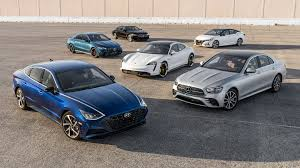car: (9, 59, 149, 142), (172, 48, 285, 115), (119, 39, 195, 77), (64, 32, 124, 60), (196, 29, 250, 50), (113, 25, 154, 43)
